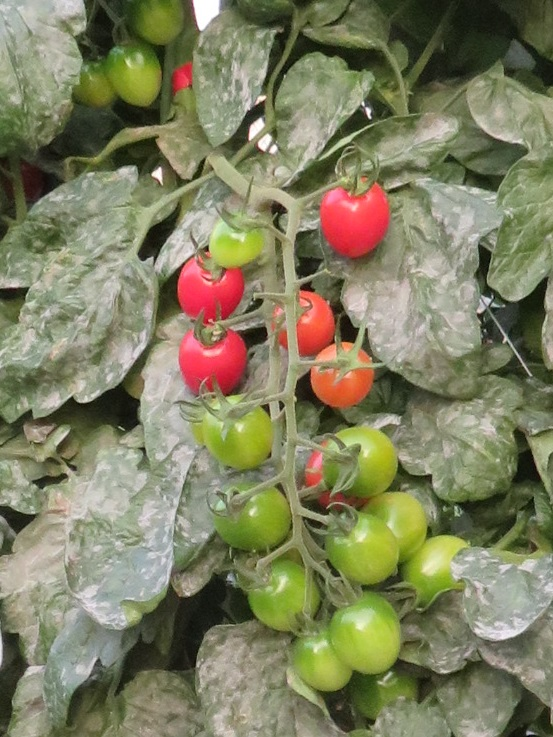green: (326, 595, 406, 677), (200, 391, 274, 468), (323, 427, 401, 499), (325, 509, 400, 583), (240, 556, 319, 626), (210, 485, 293, 548), (106, 34, 163, 108), (402, 535, 471, 594), (204, 208, 265, 269), (290, 632, 341, 694), (133, 1, 191, 45), (74, 56, 117, 109)
orange: (308, 344, 373, 412), (275, 291, 334, 353)
red: (323, 184, 394, 259), (178, 260, 247, 324), (178, 327, 247, 391)
